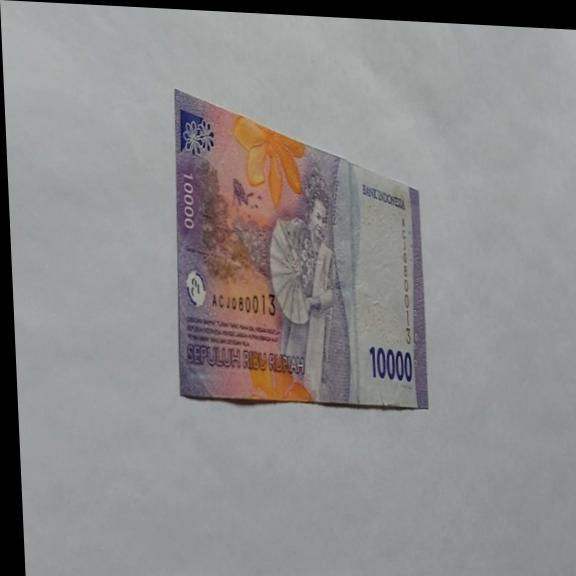Kertas: (166, 87, 430, 414)
